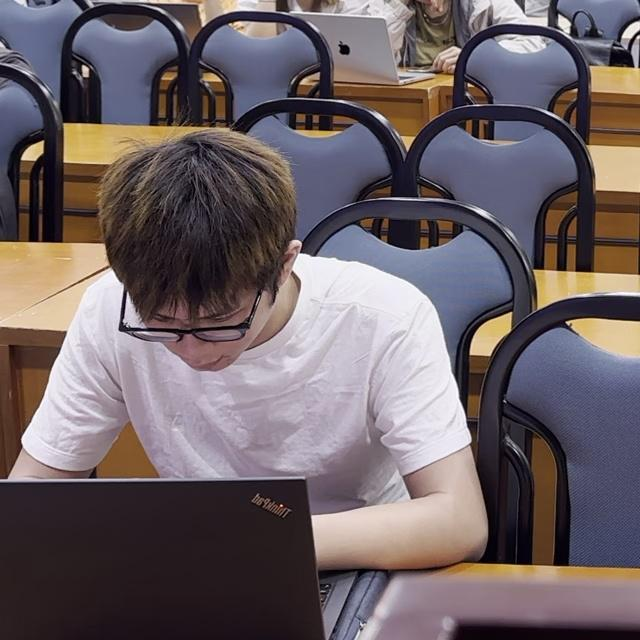Looking away: (119, 288, 282, 374)
